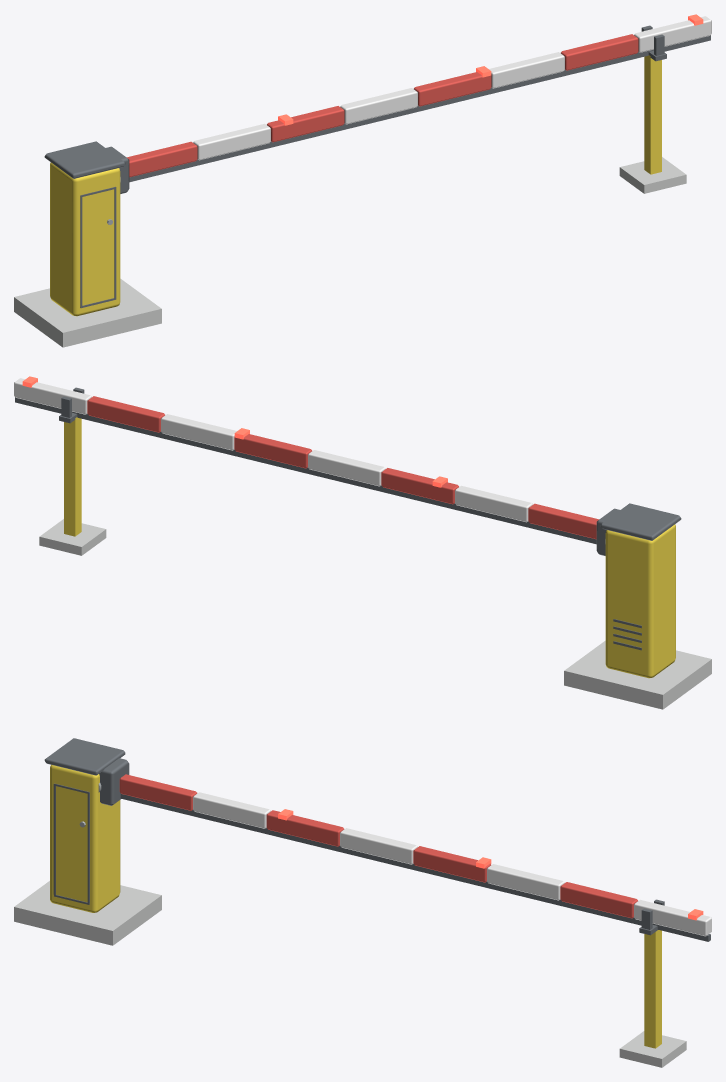
File: barrier.glb
3 renders of one model, top to bottom at view 1: azimuth 30°, elevation 25°; view 2: azimuth 150°, elevation 25°; view 3: azimuth 330°, elevation 25°, orthographic.
Parts seen in each view (by area): view 1: root__hazard_yellow, root__concrete, arm__red_white_w, arm__red_white_r, arm__graphite.001, root__hazard_yellow.001, root__graphite, root__graphite.001; view 2: root__hazard_yellow, root__concrete, arm__red_white_w, arm__red_white_r, arm__graphite.001, root__hazard_yellow.001, root__graphite, root__graphite.001; view 3: root__hazard_yellow, root__concrete, arm__red_white_w, arm__red_white_r, arm__graphite.001, root__hazard_yellow.001, root__graphite, root__graphite.001, arm__graphite.
Boxes of the visible parts, bbox=[...] form: root__hazard_yellow: bbox=[50, 162, 120, 316]; root__concrete: bbox=[14, 157, 686, 347]; arm__red_white_w: bbox=[193, 16, 711, 160]; arm__red_white_r: bbox=[127, 34, 638, 177]; arm__graphite.001: bbox=[129, 35, 710, 182]; root__hazard_yellow.001: bbox=[644, 55, 661, 174]; root__graphite: bbox=[44, 141, 125, 178]; root__graphite.001: bbox=[80, 25, 666, 308]; root__hazard_yellow: bbox=[605, 524, 675, 678]; root__concrete: bbox=[39, 519, 711, 709]; arm__red_white_w: bbox=[14, 378, 532, 522]; arm__red_white_r: bbox=[87, 396, 598, 539]; arm__graphite.001: bbox=[15, 397, 596, 544]; root__hazard_yellow.001: bbox=[64, 417, 81, 536]; root__graphite: bbox=[600, 503, 681, 540]; root__graphite.001: bbox=[59, 387, 641, 650]; root__hazard_yellow: bbox=[50, 764, 120, 912]; root__concrete: bbox=[14, 881, 686, 1067]; arm__red_white_w: bbox=[193, 792, 711, 936]; arm__red_white_r: bbox=[119, 774, 637, 918]; arm__graphite.001: bbox=[120, 793, 710, 941]; root__hazard_yellow.001: bbox=[644, 930, 661, 1048]; root__graphite: bbox=[44, 738, 125, 775]; root__graphite.001: bbox=[53, 783, 664, 935]; arm__graphite: bbox=[99, 758, 129, 805].
Bounding box in the file's own units: 4.75 × 1.09 × 0.5999.
